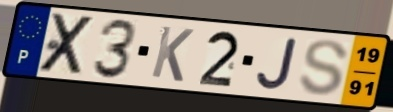2: (198, 29, 241, 88)
3: (92, 17, 138, 81)
J: (254, 35, 301, 92)
K: (148, 23, 196, 84)
S: (297, 37, 351, 98)
X: (35, 12, 98, 76)
